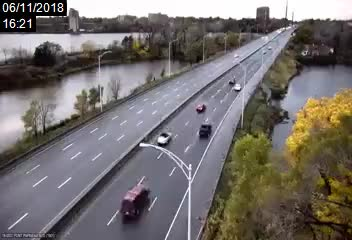personal_car: (155, 130, 174, 146), (198, 122, 213, 137), (195, 102, 206, 113), (231, 83, 242, 91), (227, 77, 237, 85)
truck: (122, 183, 148, 219)
